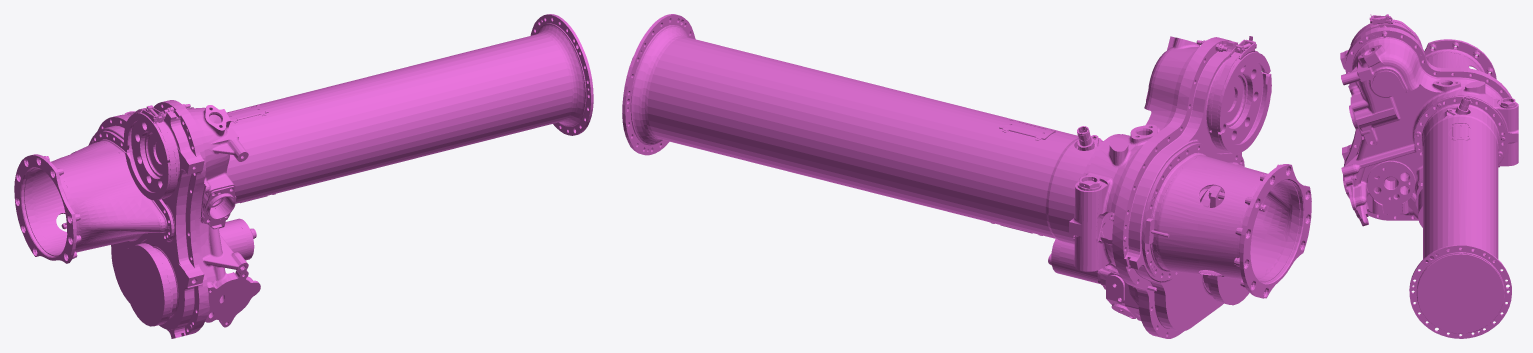
The picture shows the model from 3 angles, left to right: view 1: azimuth 30°, elevation 25°; view 2: azimuth 150°, elevation 25°; view 3: azimuth 270°, elevation 25°; orthographic projection. The views are drawn at different scales.
Parts seen in each view (by area): view 1: M01附件机匣; view 2: M01附件机匣; view 3: M01附件机匣.
Boxes of the visible parts, x1=… form: M01附件机匣: x1=14, y1=14, x2=593, y2=338; M01附件机匣: x1=622, y1=14, x2=1311, y2=338; M01附件机匣: x1=1340, y1=14, x2=1518, y2=338.
Bounding box in the file's own units: 810 × 351 × 285.
